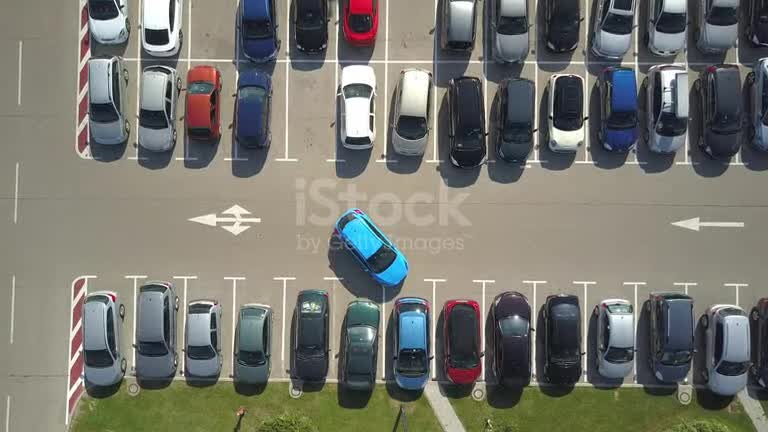car: (334, 208, 408, 286), (700, 304, 750, 395), (694, 64, 742, 157), (646, 292, 694, 382), (135, 282, 178, 380), (82, 291, 126, 385), (491, 291, 532, 386), (645, 65, 688, 153), (543, 294, 584, 385), (138, 65, 181, 151), (88, 56, 129, 144), (393, 297, 432, 389), (447, 76, 486, 167), (597, 66, 638, 151), (392, 68, 432, 155), (341, 299, 379, 390), (292, 290, 329, 381), (443, 300, 483, 384), (495, 78, 535, 161), (594, 299, 634, 378), (233, 304, 272, 384), (339, 65, 375, 149), (547, 74, 586, 151), (184, 300, 222, 377), (234, 70, 271, 147), (185, 65, 221, 139), (239, 0, 281, 62), (591, 0, 634, 59), (489, 0, 529, 62), (694, 0, 739, 52), (645, 0, 687, 55), (141, 0, 182, 56), (543, 0, 582, 52), (87, 0, 129, 44), (747, 58, 767, 150), (440, 0, 476, 51), (293, 0, 328, 52), (750, 297, 768, 388), (343, 0, 378, 45), (744, 0, 767, 45)
